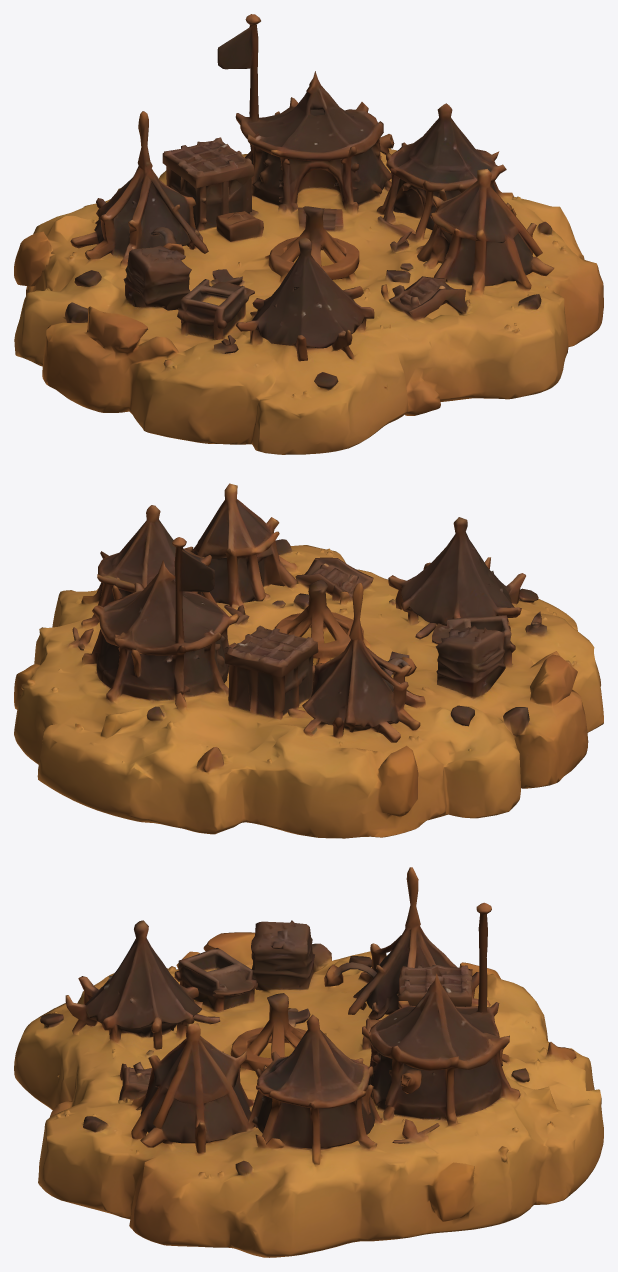
File: pirate.glb
3 renders of one model, top to bottom at view 1: azimuth 30°, elevation 25°; view 2: azimuth 150°, elevation 25°; view 3: azimuth 270°, elevation 25°, orthographic. The views are drawn at different scales.
Parts seen in each view (by area): view 1: tripo_node_aaa93483-a206-47a5-92d0-7b955f6a9d88; view 2: tripo_node_aaa93483-a206-47a5-92d0-7b955f6a9d88; view 3: tripo_node_aaa93483-a206-47a5-92d0-7b955f6a9d88.
Part boxes in pixels (x1,y1,x2,y2): tripo_node_aaa93483-a206-47a5-92d0-7b955f6a9d88: (14, 14, 603, 454); tripo_node_aaa93483-a206-47a5-92d0-7b955f6a9d88: (14, 483, 603, 838); tripo_node_aaa93483-a206-47a5-92d0-7b955f6a9d88: (14, 867, 603, 1257).
Size of the model in its own units: 1 by 0.4517 by 0.9634.
Materials: 1 (1 with a texture image).
